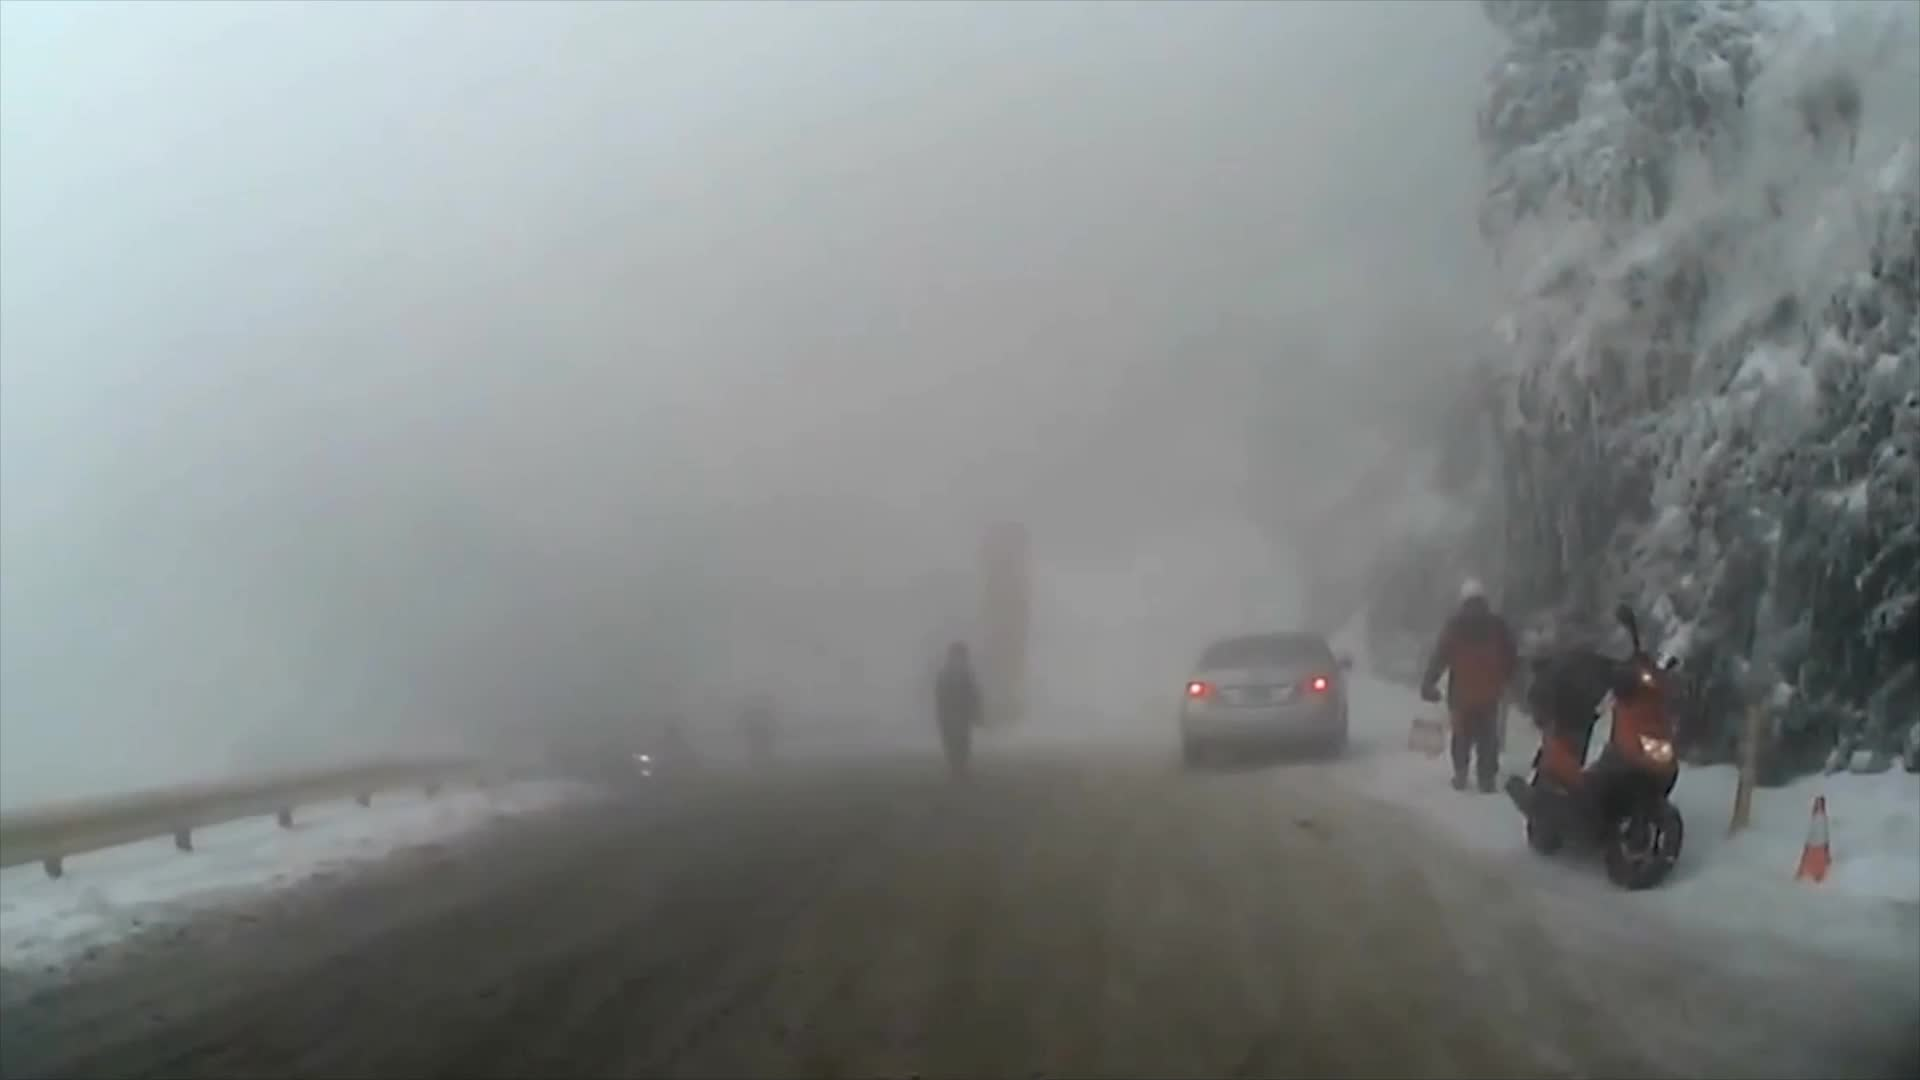pedestrian: (1421, 579, 1526, 799), (934, 640, 981, 786)
vehicle: (1179, 628, 1355, 769)
